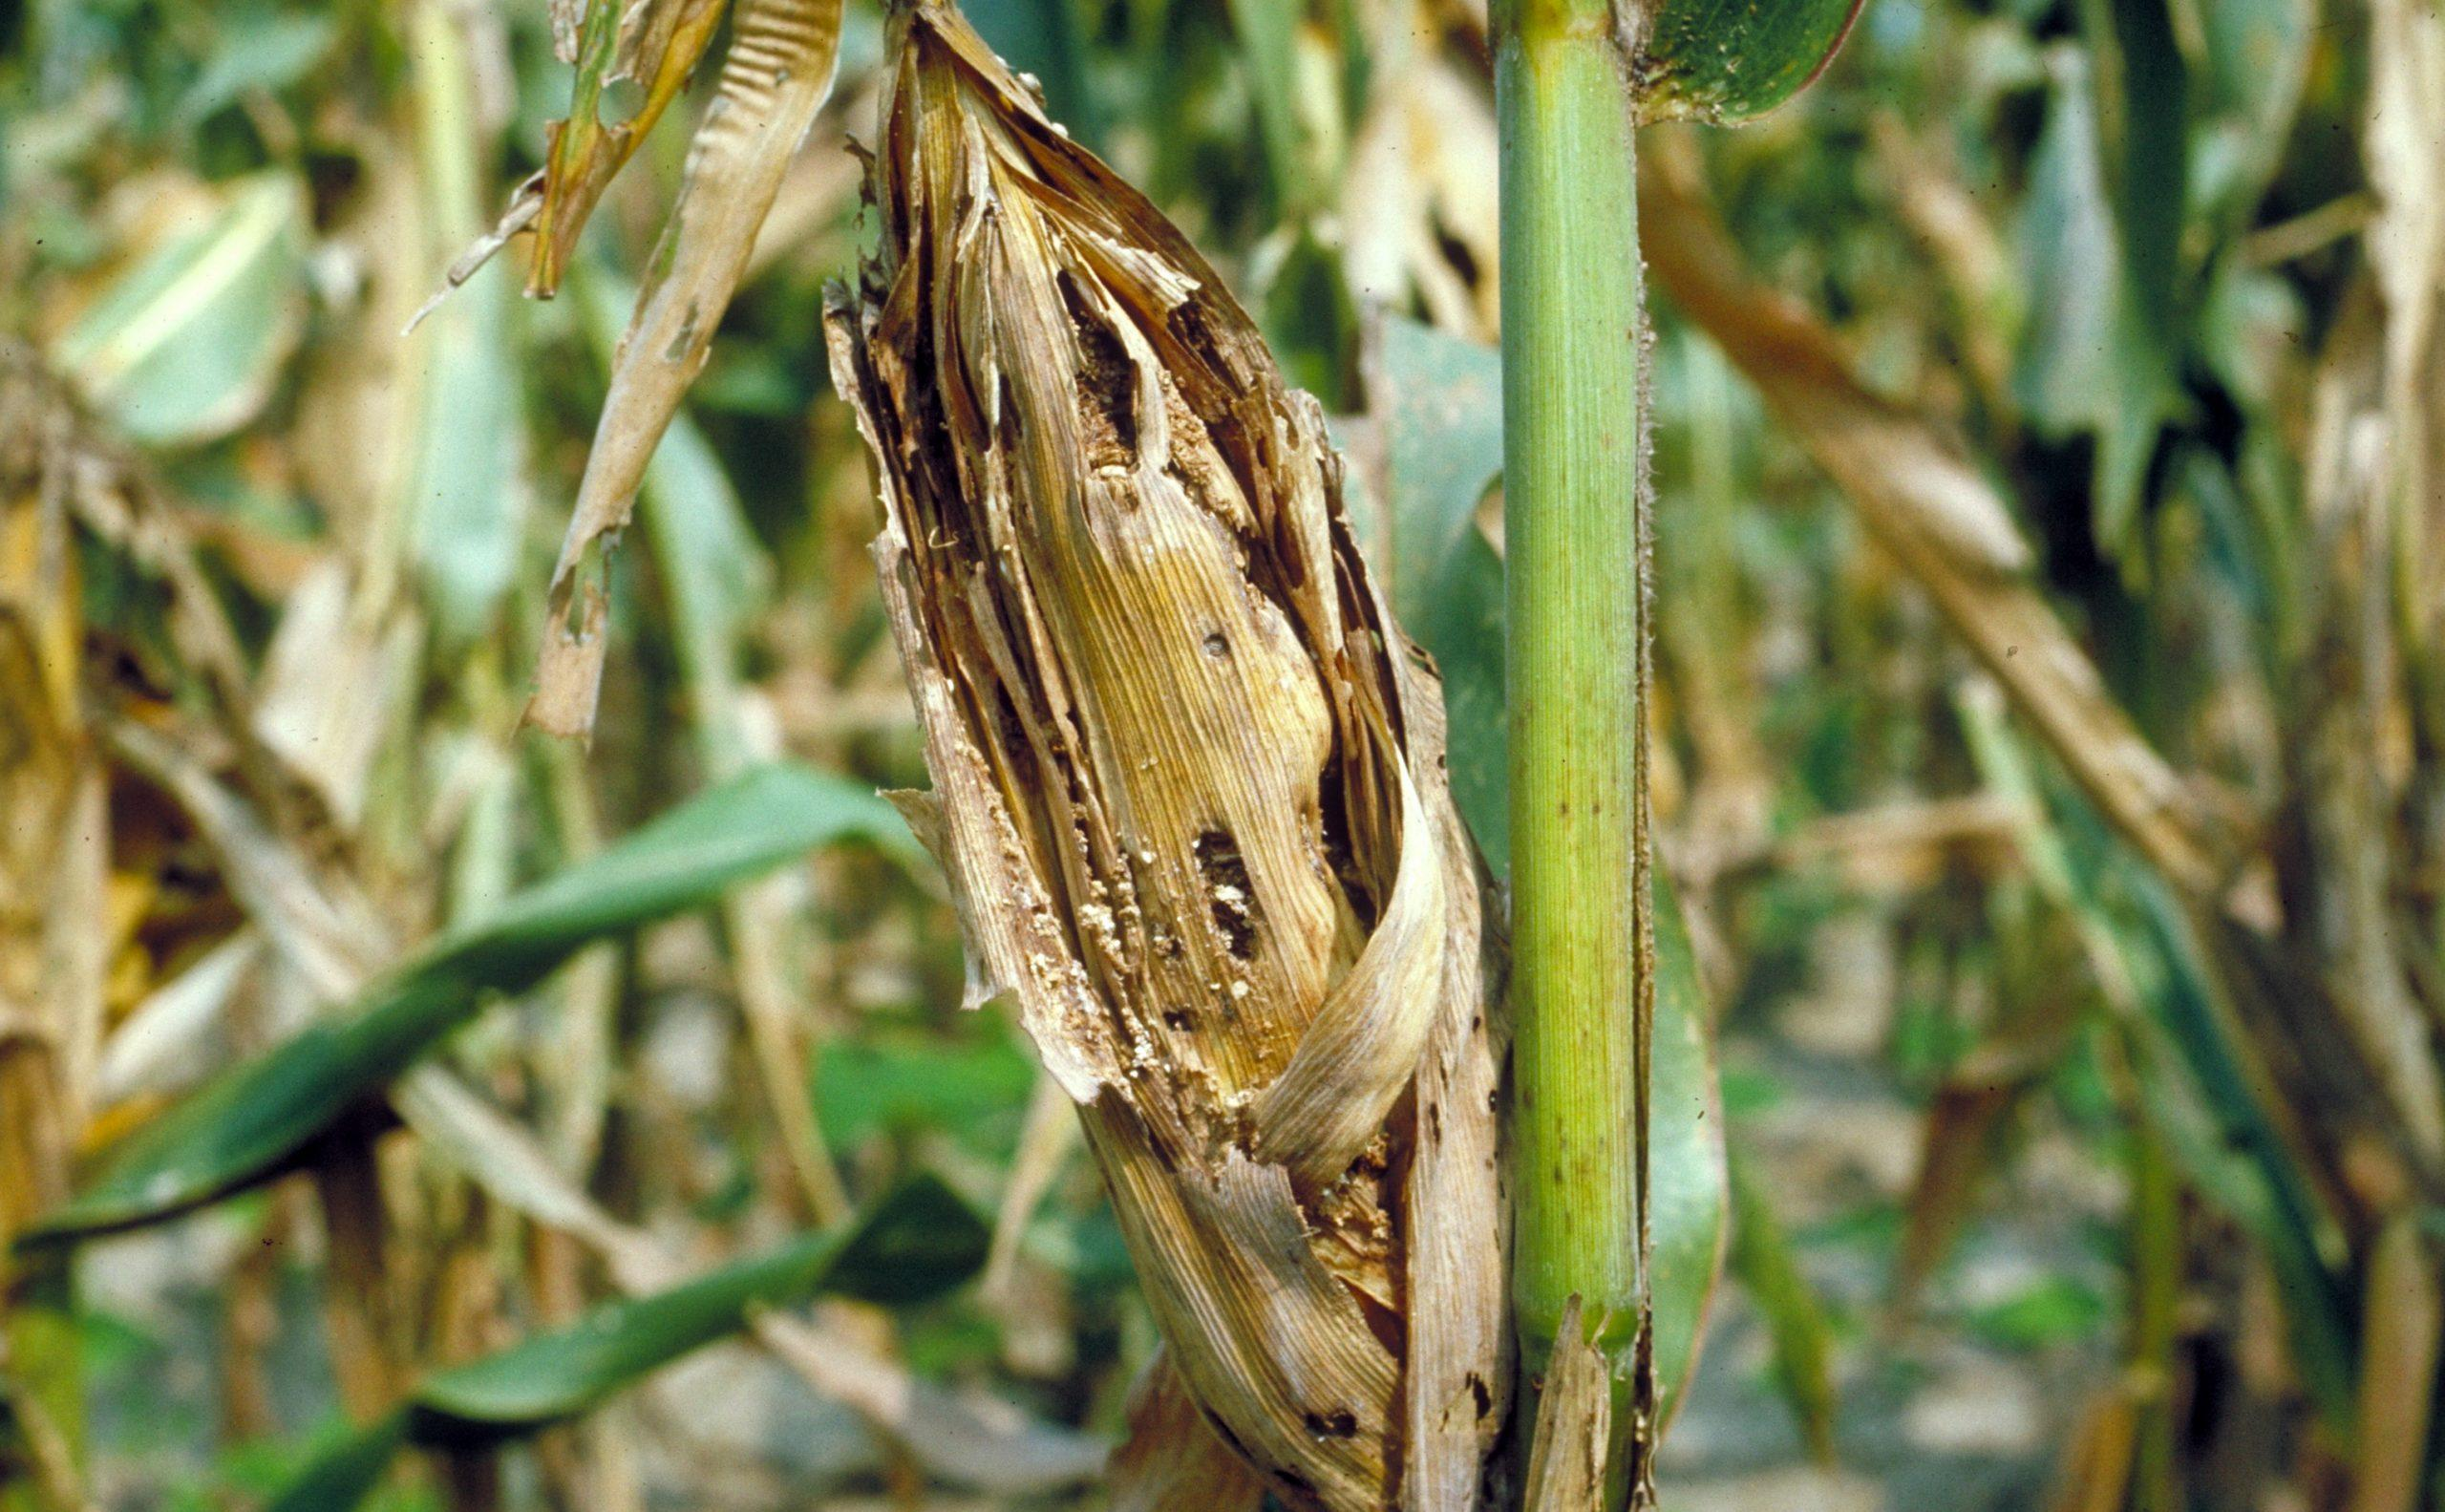Maize-fall-armyworm: (727, 2, 1512, 1463)
